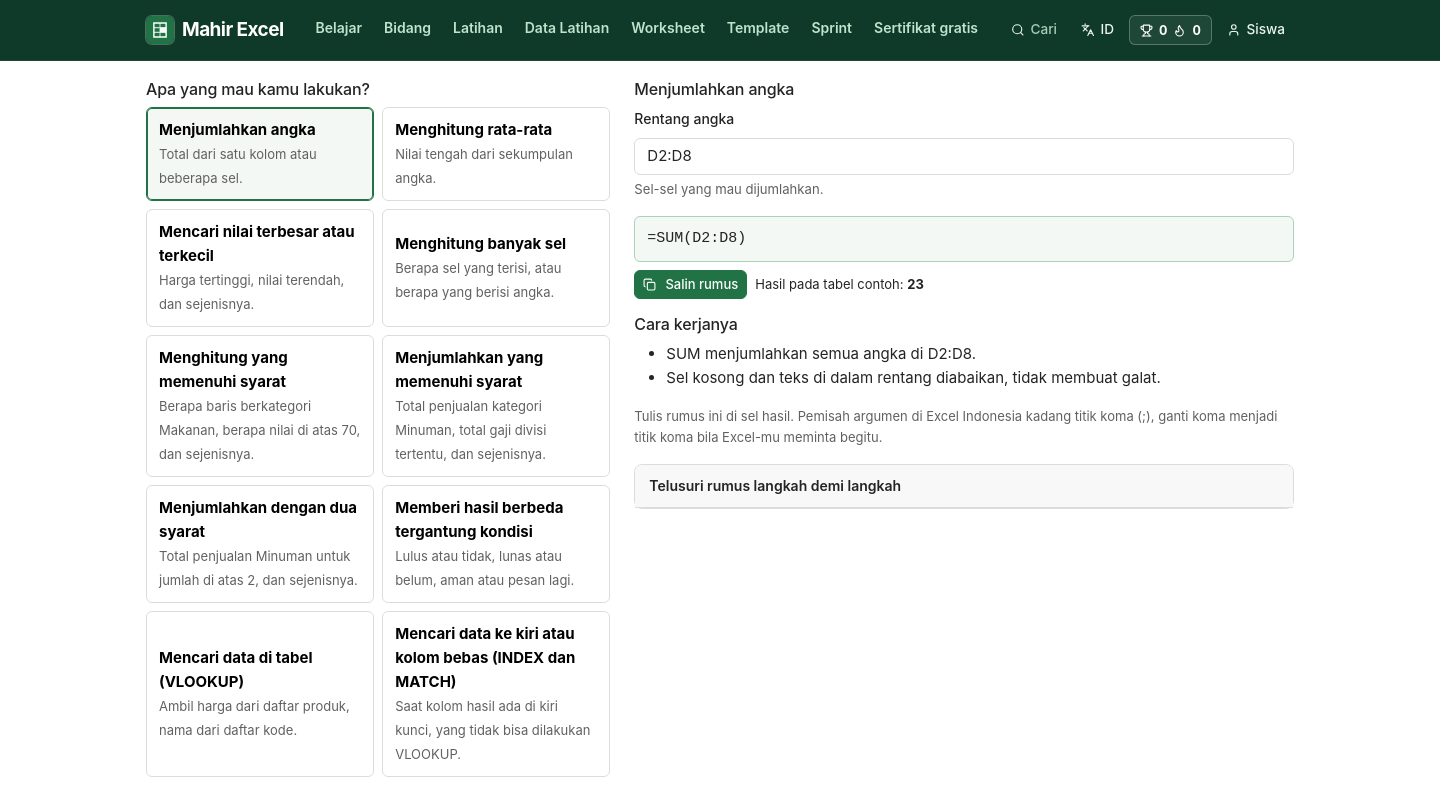
Scenario: halaman Wizard rumus › Premium: SUMIF dirakit dari isian, teks diberi tanda kutip, dan hasil dihitung
The image size is (1440, 785).
(page scrolled)
Click the button "Menjumlahkan yang memenuhi syarat" at x=496, y=406, box 382,335 -> 610,477
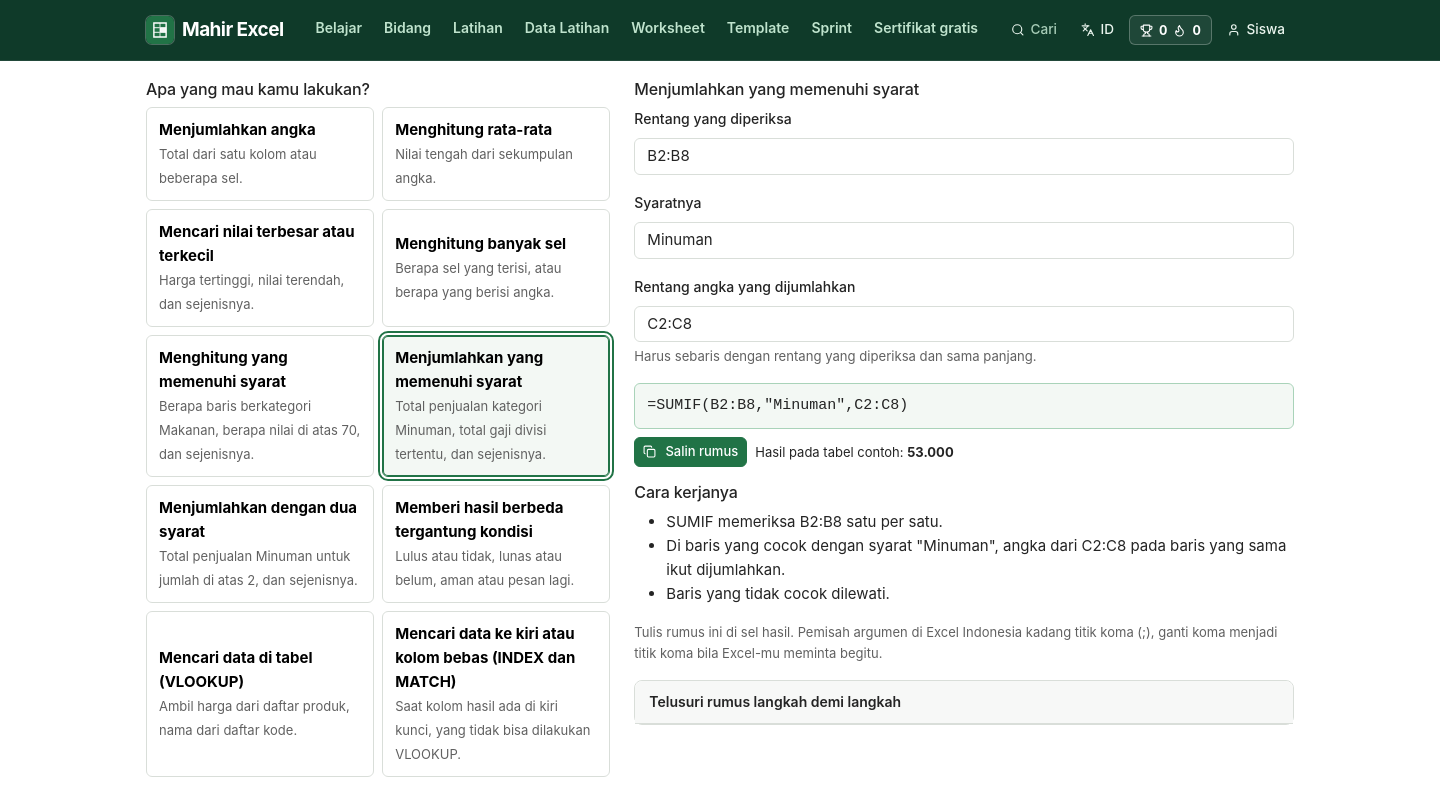
Expected: the text with test id "wizard-formula" reads "=SUMIF(B2:B8,\"Minuman\",C2:C8)", 647,397 -> 908,414
Expected: the element with test id "wizard-outcome" shows "53", 907,444 -> 954,460
Replace the text in the field labelled "Syaratnya" with "Makanan" at x=964, y=240, box 634,222 -> 1294,258
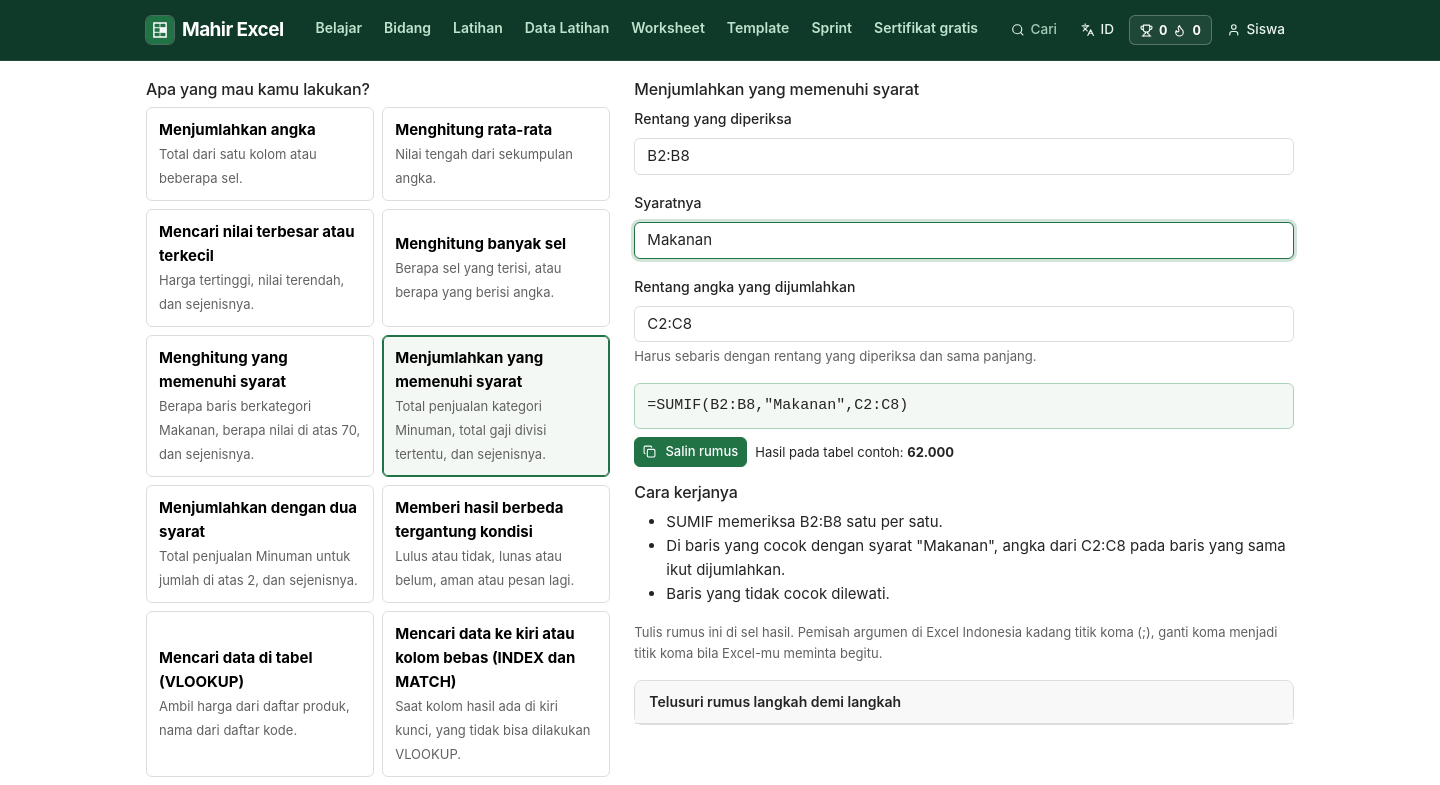
Expected: the text with test id "wizard-formula" reads "=SUMIF(B2:B8,\"Makanan\",C2:C8)", 647,397 -> 908,414
Replace the text in the field labelled "Rentang yang diperiksa" with "B2" at x=964, y=156, box 634,138 -> 1294,175
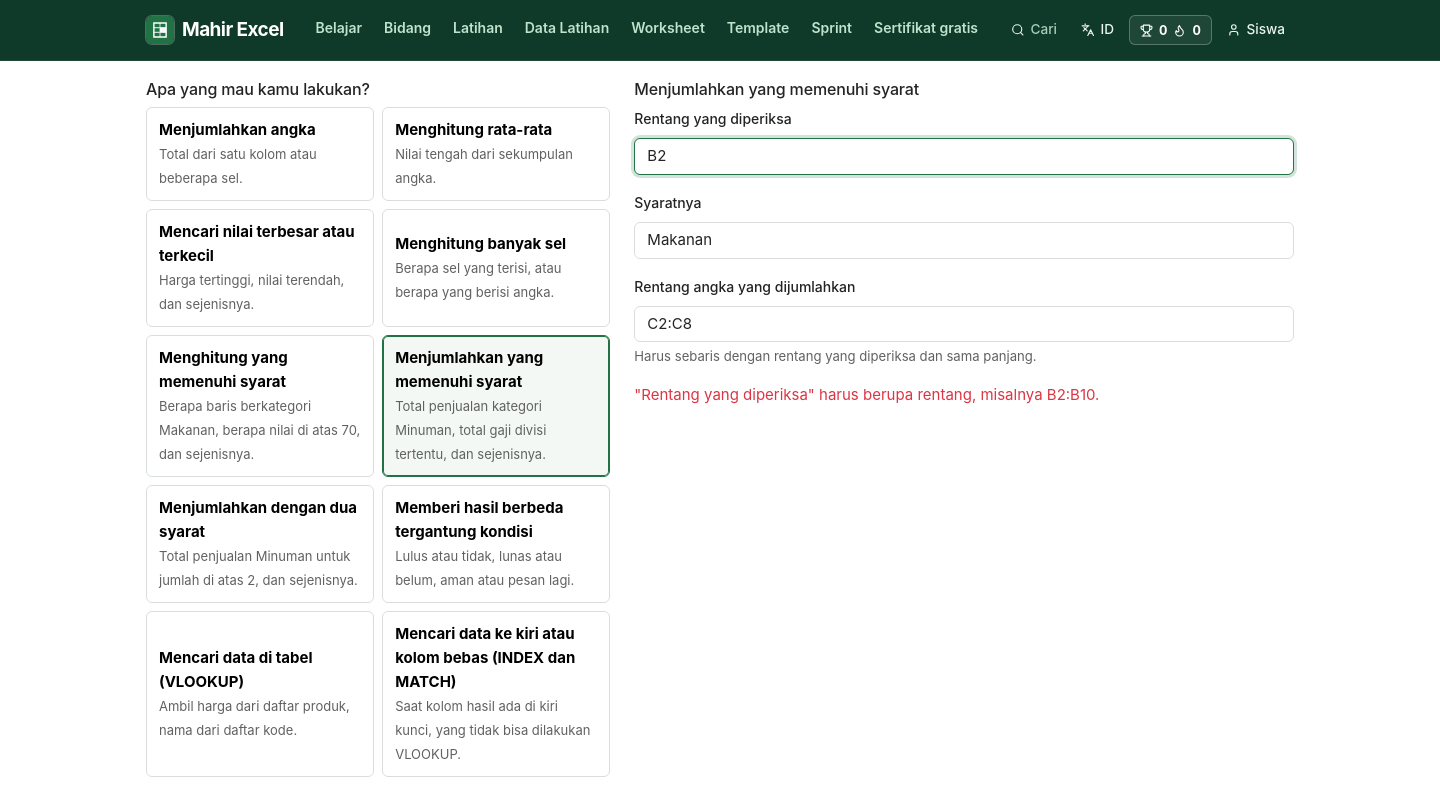
Expected: the text "\"Rentang yang diperiksa\" harus berupa rentang, misalnya B2:B10." is shown, 634,385 -> 1099,404
